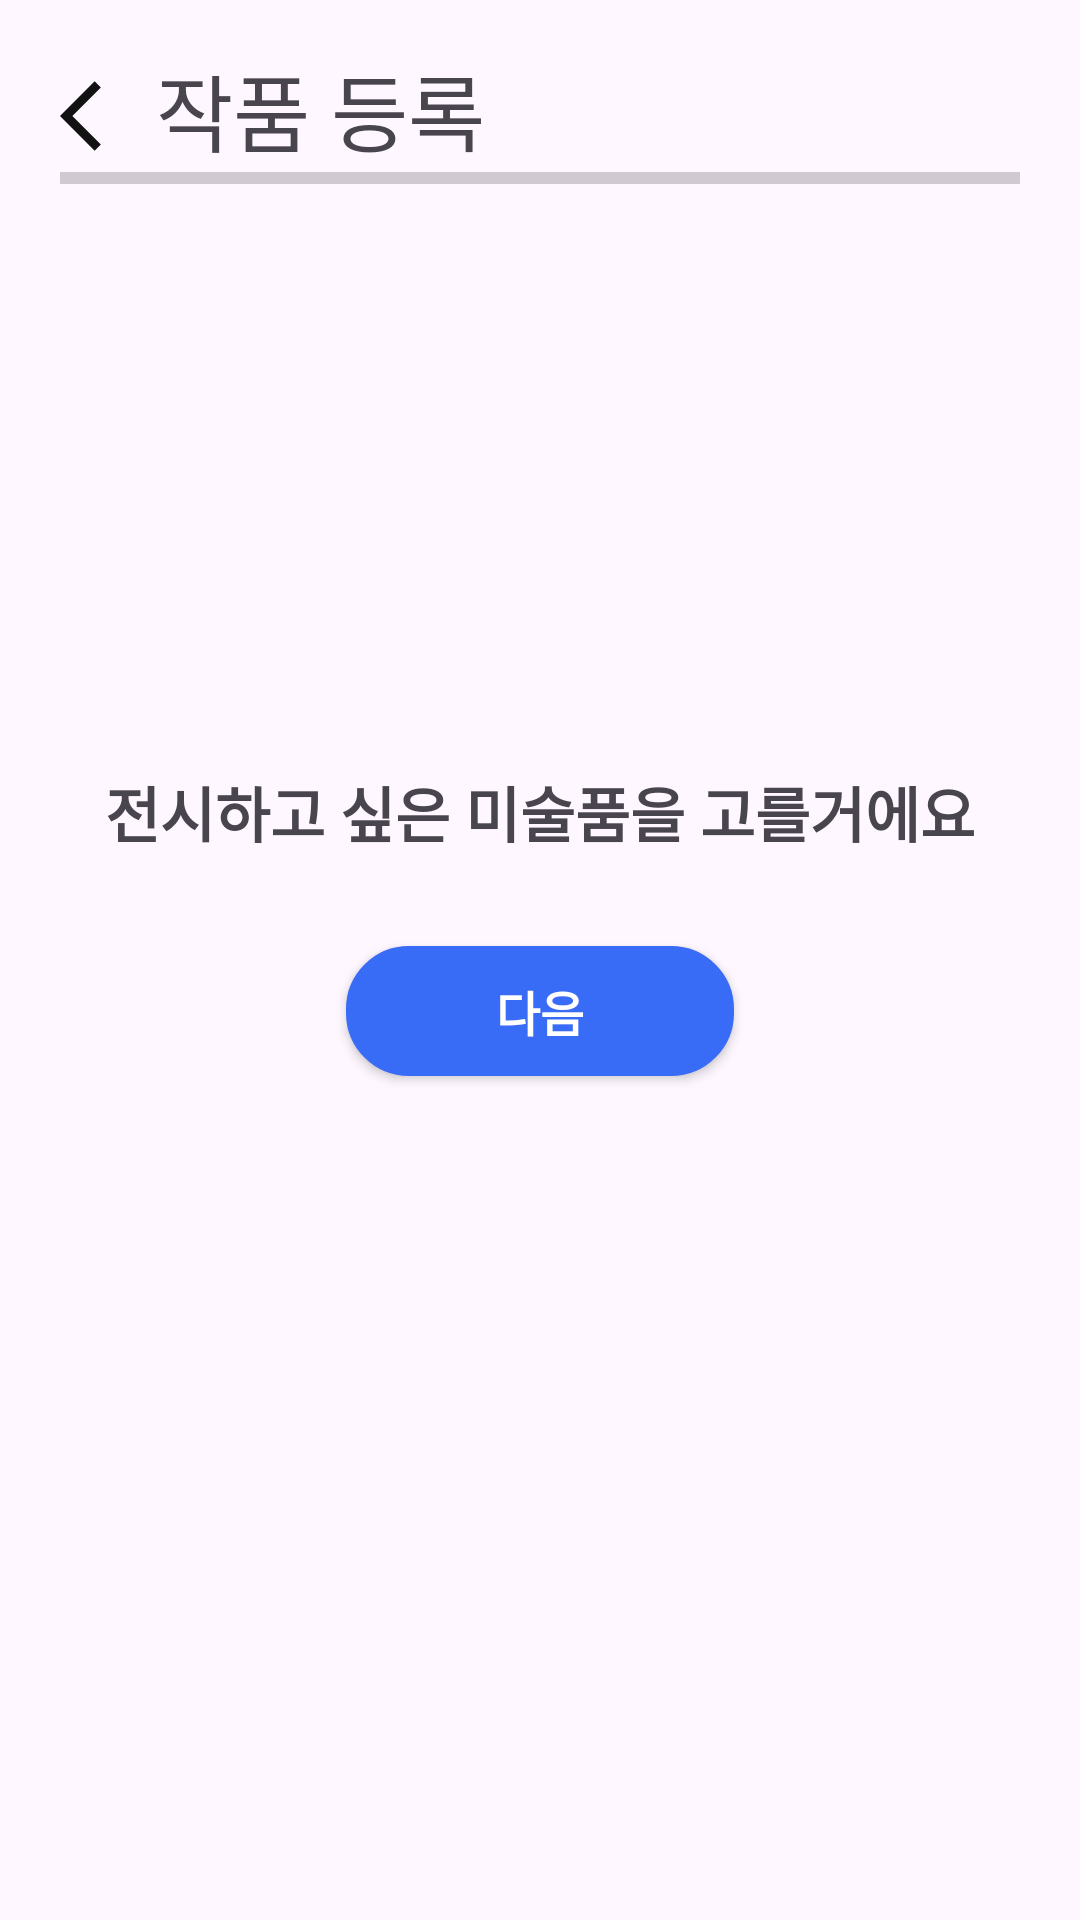

Icon bounding boxes for this 1080x1920 phone screenshot, format [x1=x1, y1=y1, x2=x2, y2=y2]:
arrow back: [x1=60, y1=81, x2=101, y2=151]
